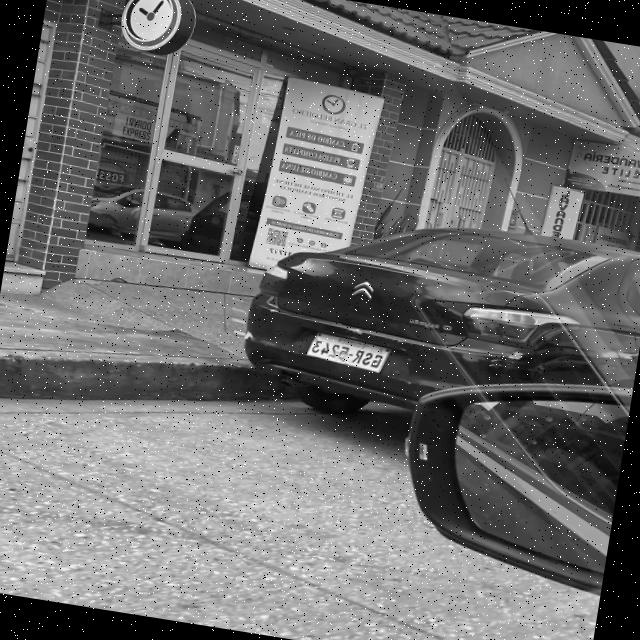Placa: (306, 334, 389, 373)
